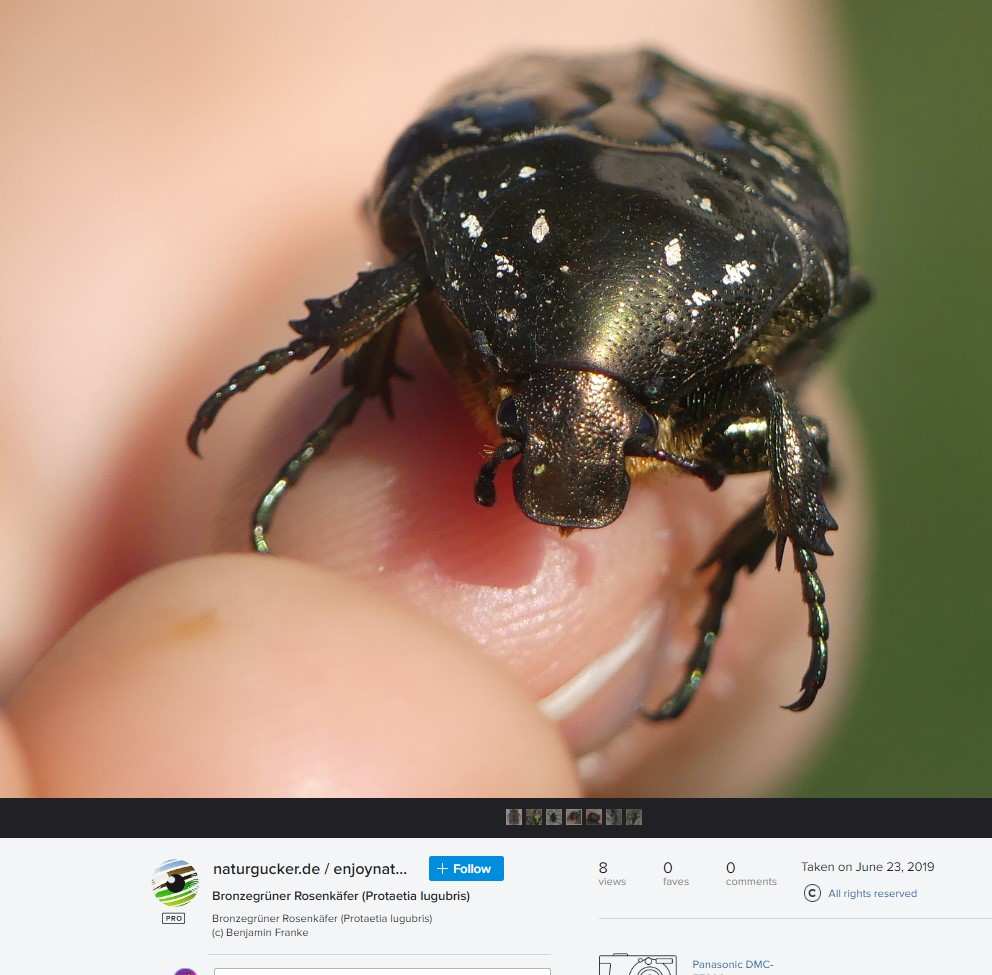Protaetia_lugubris: (176, 41, 871, 743)
